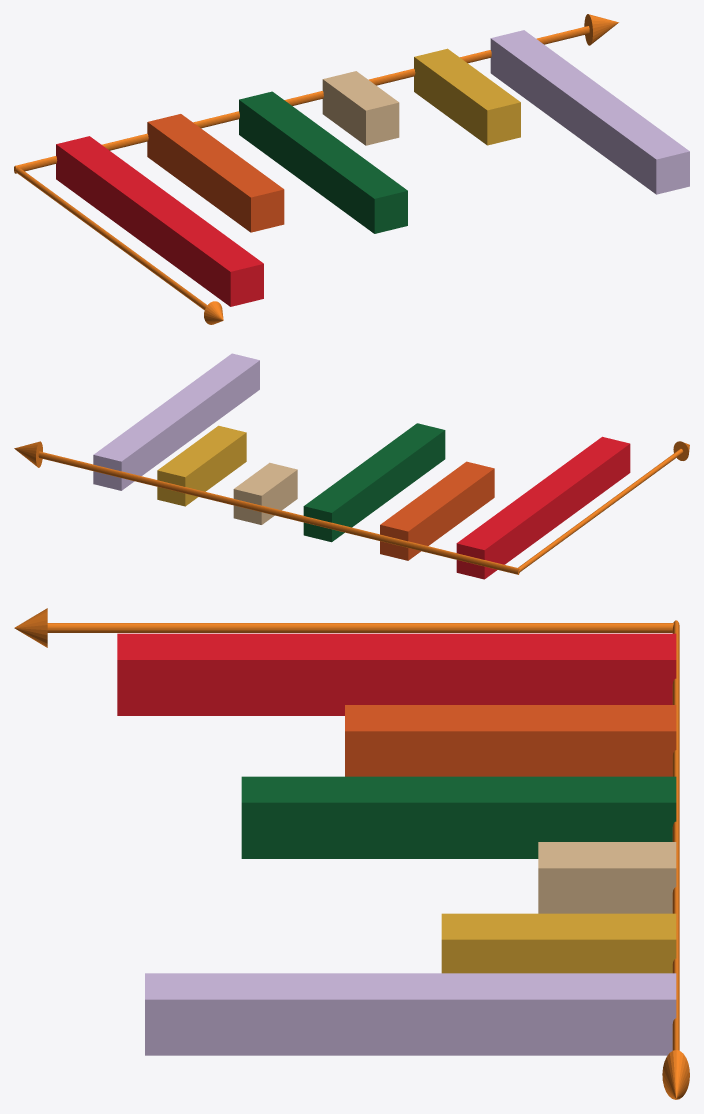
File: tinker.obj
3 renders of one model, top to bottom at view 1: azimuth 30°, elevation 25°; view 2: azimuth 150°, elevation 25°; view 3: azimuth 270°, elevation 25°, orthographic. The views are drawn at different scales.
Parts seen in each view (by area): view 1: group_15277357, group_13877221, group_1206582, group_14900002, group_14789940, group_16089887, group_14860437; view 2: group_15277357, group_13877221, group_1206582, group_14900002, group_16089887, group_14789940, group_14860437; view 3: group_13877221, group_15277357, group_1206582, group_14900002, group_14789940, group_16089887, group_14860437.
Part boxes in pixels (bbox=[...]): group_15277357: bbox=[56, 136, 263, 306]; group_13877221: bbox=[490, 30, 689, 194]; group_1206582: bbox=[239, 91, 407, 233]; group_14900002: bbox=[147, 114, 284, 232]; group_14789940: bbox=[414, 48, 520, 145]; group_16089887: bbox=[14, 14, 618, 324]; group_14860437: bbox=[322, 71, 399, 145]; group_15277357: bbox=[456, 436, 630, 579]; group_13877221: bbox=[93, 353, 259, 490]; group_1206582: bbox=[303, 423, 445, 542]; group_14900002: bbox=[380, 461, 494, 560]; group_16089887: bbox=[14, 441, 689, 574]; group_14789940: bbox=[157, 425, 246, 506]; group_14860437: bbox=[233, 462, 297, 524]; group_13877221: bbox=[145, 973, 676, 1055]; group_15277357: bbox=[117, 633, 676, 715]; group_1206582: bbox=[241, 776, 676, 858]; group_14900002: bbox=[345, 705, 676, 776]; group_14789940: bbox=[441, 913, 676, 973]; group_16089887: bbox=[14, 608, 689, 1099]; group_14860437: bbox=[538, 842, 676, 913].
Bounding box in the file's own units: 164 × 9 × 98.
